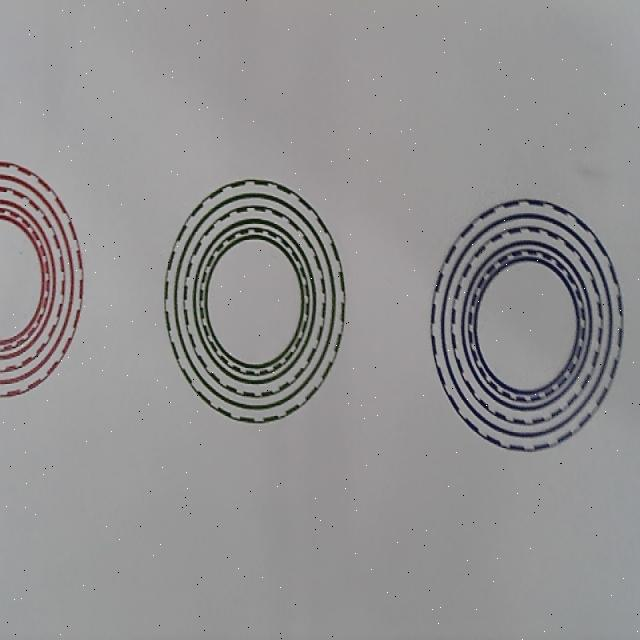b: (430, 197, 625, 451)
g: (164, 178, 346, 424)
